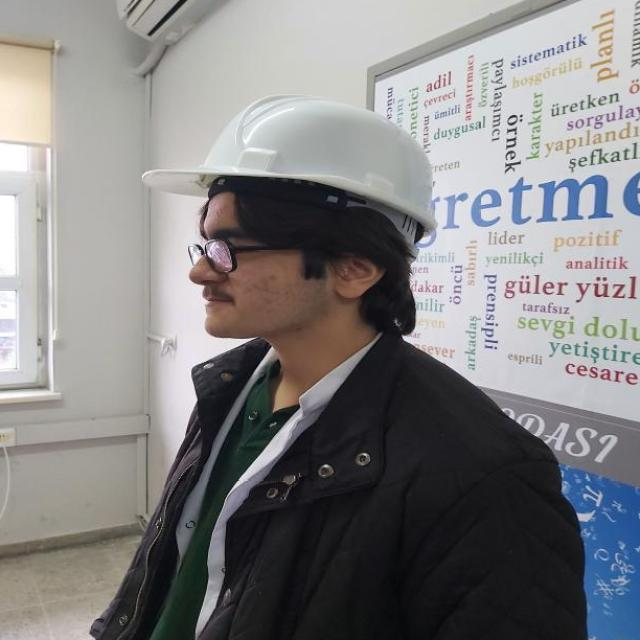helmet: (140, 92, 438, 249)
